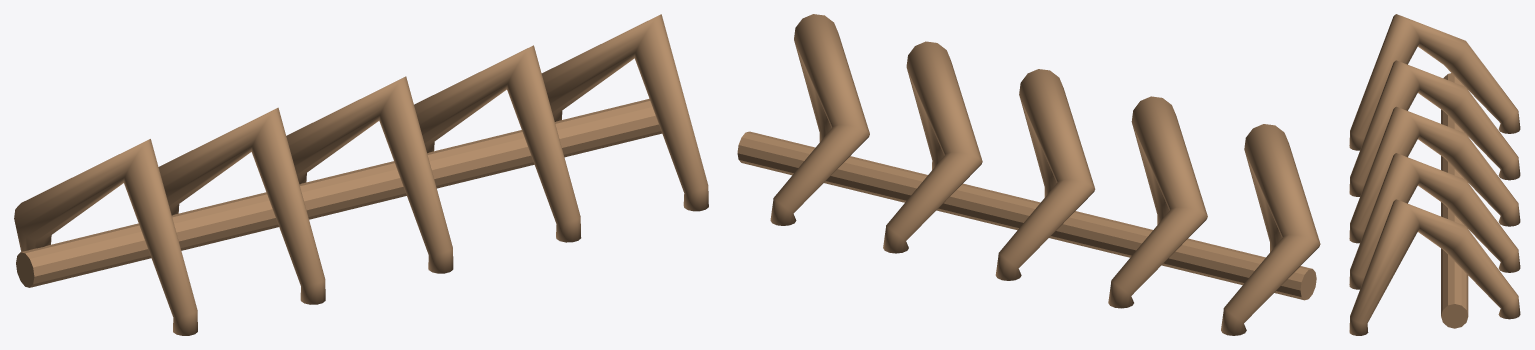
Rendered from mangrove_root_tangle_module_tropical_island_and_palm_trees_6813.glb.
3 views of the same model, side by side, from view 1: azimuth 30°, elevation 25°; view 2: azimuth 150°, elevation 25°; view 3: azimuth 270°, elevation 25° (orthographic). The views are drawn at different scales.
Visible parts, largest first — view 1: mangrove-root-module_5, mangrove-root-module_0, mangrove-root-module_1, mangrove-root-module_4, mangrove-root-module_2, mangrove-root-module_3; view 2: mangrove-root-module_5, mangrove-root-module_2, mangrove-root-module_4, mangrove-root-module_0, mangrove-root-module_1, mangrove-root-module_3; view 3: mangrove-root-module_4, mangrove-root-module_2, mangrove-root-module_1, mangrove-root-module_0, mangrove-root-module_3, mangrove-root-module_5.
Boxes of the visible parts, x1,y1,x2,y2 form: mangrove-root-module_5: (16, 98, 662, 287); mangrove-root-module_0: (14, 139, 197, 335); mangrove-root-module_1: (158, 107, 325, 304); mangrove-root-module_4: (541, 14, 708, 211); mangrove-root-module_2: (286, 76, 453, 273); mangrove-root-module_3: (414, 45, 581, 242); mangrove-root-module_5: (737, 131, 1316, 300); mangrove-root-module_2: (995, 69, 1095, 280); mangrove-root-module_4: (770, 14, 869, 225); mangrove-root-module_0: (1221, 124, 1320, 335); mangrove-root-module_1: (1108, 96, 1207, 308); mangrove-root-module_3: (883, 41, 982, 253); mangrove-root-module_4: (1349, 199, 1520, 335); mangrove-root-module_2: (1349, 106, 1520, 243); mangrove-root-module_1: (1349, 60, 1520, 196); mangrove-root-module_0: (1349, 14, 1520, 150); mangrove-root-module_3: (1349, 153, 1520, 289); mangrove-root-module_5: (1441, 73, 1468, 328).
Bounding box in the file's own units: 4.06 × 1.03 × 1.25.
